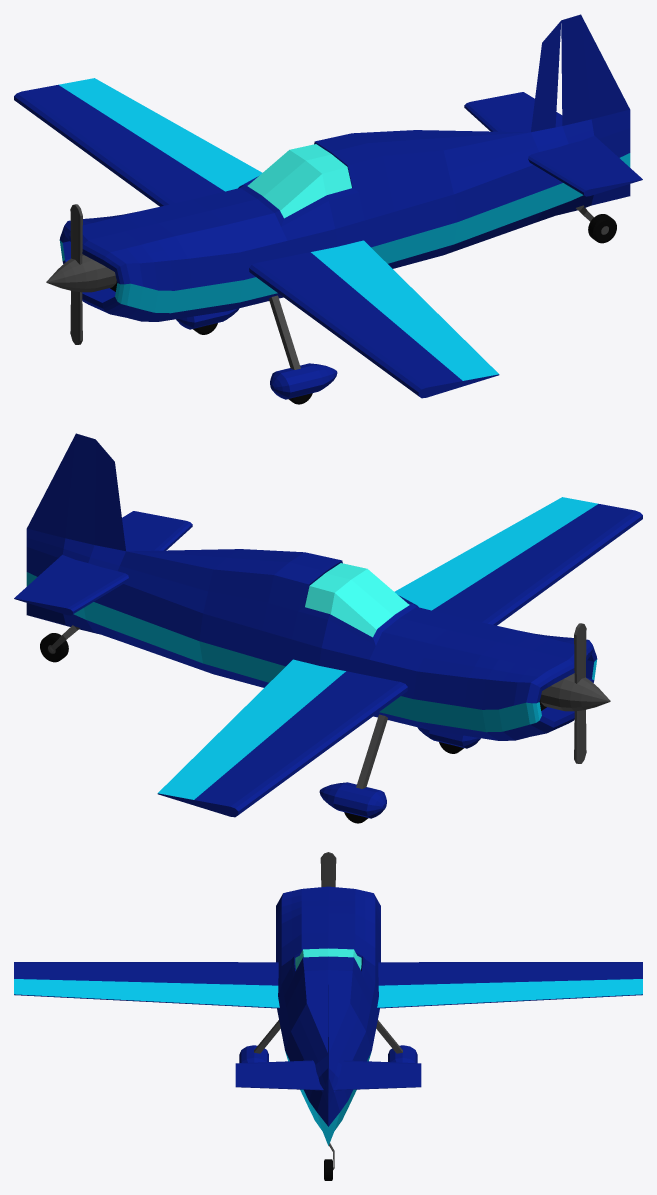
The picture shows the model from 3 angles, top to bottom: view 1: azimuth 30°, elevation 25°; view 2: azimuth 150°, elevation 25°; view 3: azimuth 270°, elevation 25°; orthographic projection. The views are drawn at different scales.
Parts seen in each view (by area): view 1: body-1, body-0, body-2; view 2: body-1, body-0, body-2; view 3: body-1, body-0.
Boxes of the visible parts, <box> form: body-1: <box>14,14,642,399</box>; body-0: <box>70,204,82,344</box>; body-2: <box>588,214,616,243</box>; body-1: <box>14,433,642,818</box>; body-0: <box>574,623,586,763</box>; body-2: <box>40,633,68,662</box>; body-1: <box>14,886,642,1145</box>; body-0: <box>320,852,336,887</box>.
Bounding box in the file's own units: 2.83 × 1.26 × 3.4.
